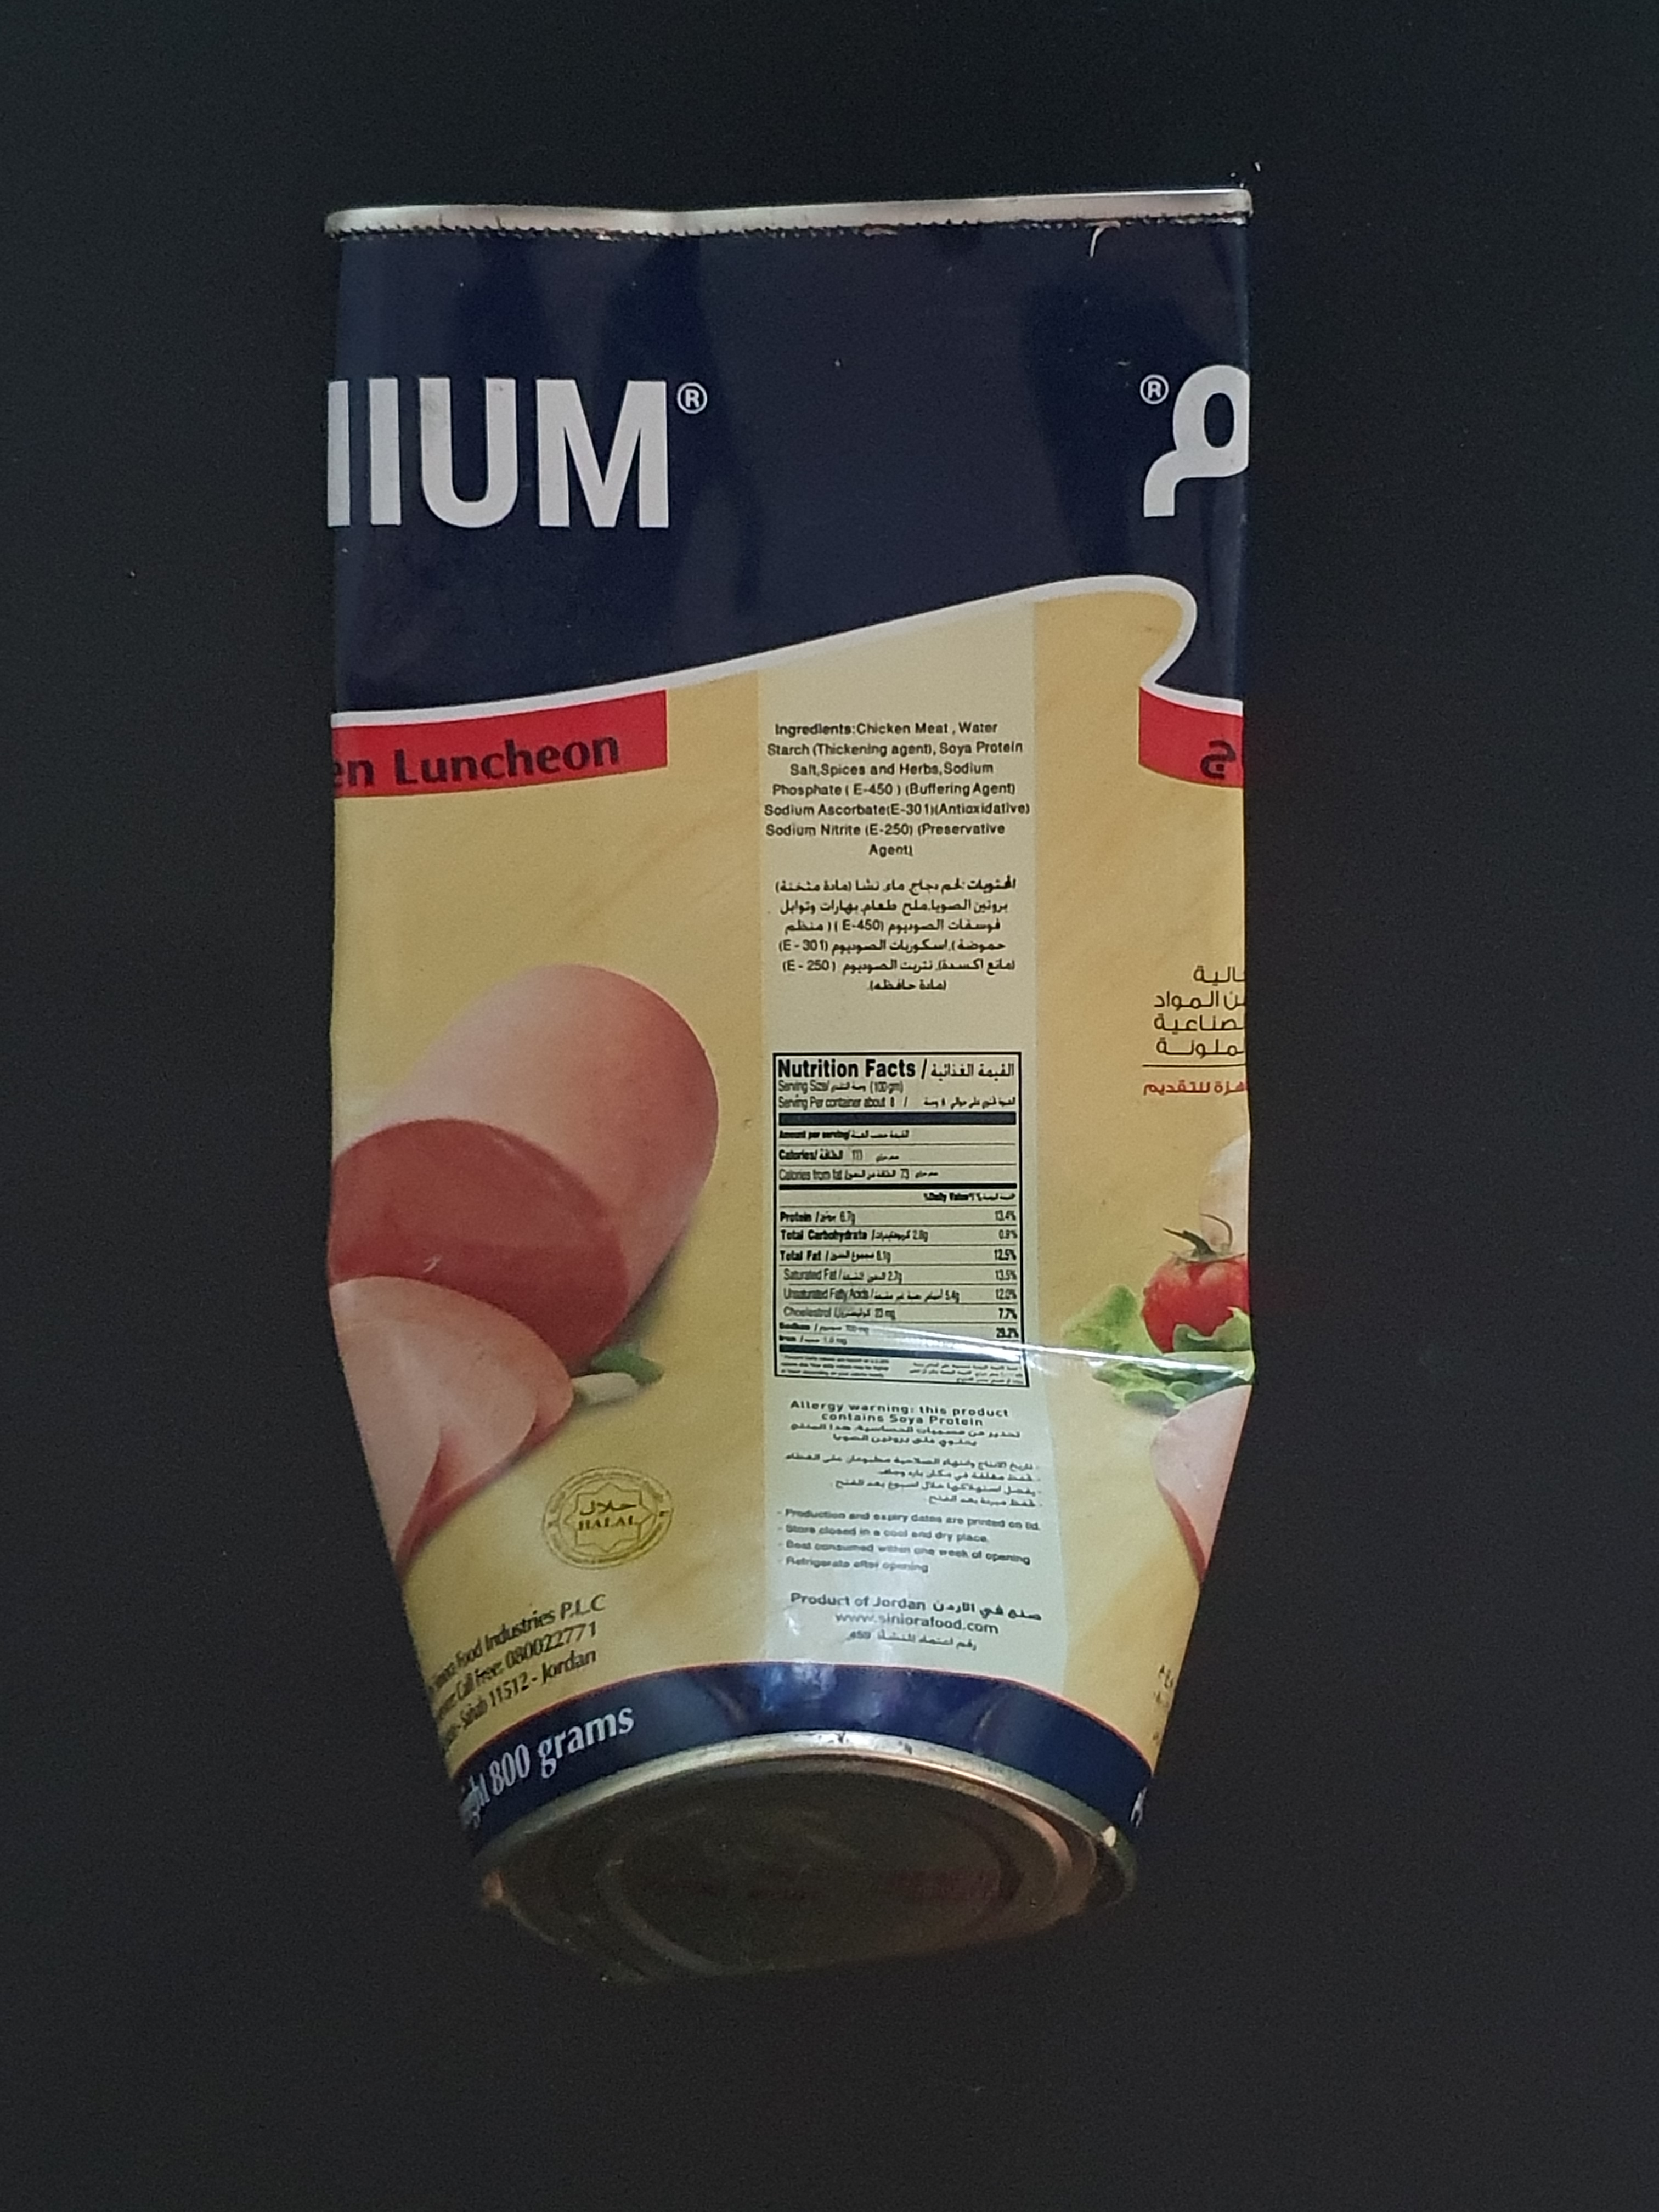metal: (214, 139, 1363, 2005)
